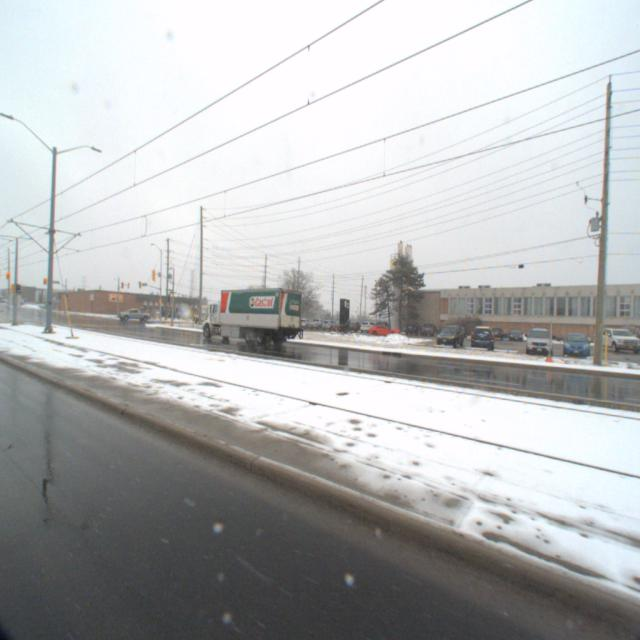Car: (523, 328, 553, 360), (559, 332, 589, 361), (432, 326, 462, 350), (467, 327, 493, 352), (364, 326, 400, 341)
Truck: (199, 288, 311, 351), (114, 312, 150, 324)
